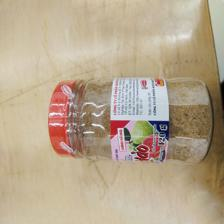Hao_hao: (46, 77, 213, 168)
